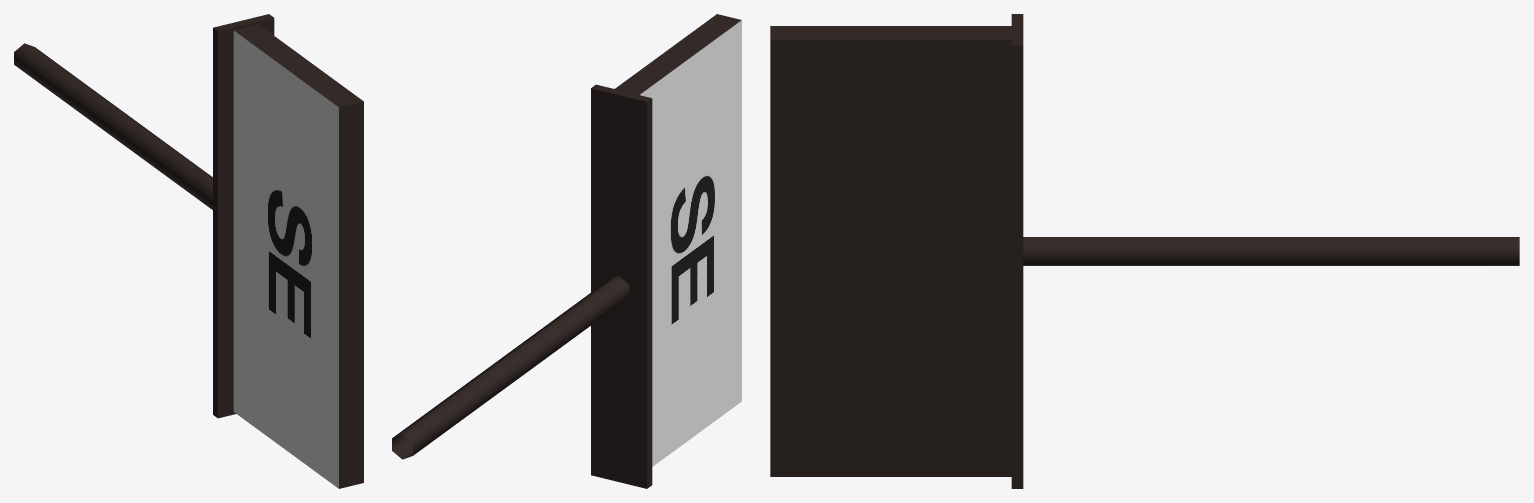
3 views of the same model, side by side, from view 1: azimuth 30°, elevation 25°; view 2: azimuth 150°, elevation 25°; view 3: azimuth 270°, elevation 25° (orthographic). The views are drawn at different scales.
Visible parts, largest first — view 1: se; view 2: se; view 3: se.
Part boxes in pixels (bbox=[...]): se: bbox=[14, 14, 363, 488]; se: bbox=[392, 14, 741, 488]; se: bbox=[770, 14, 1519, 488].
Bounding box in the file's own units: 1.4 × 9.22 × 14.12.
Materials: 2 (1 with a texture image).
